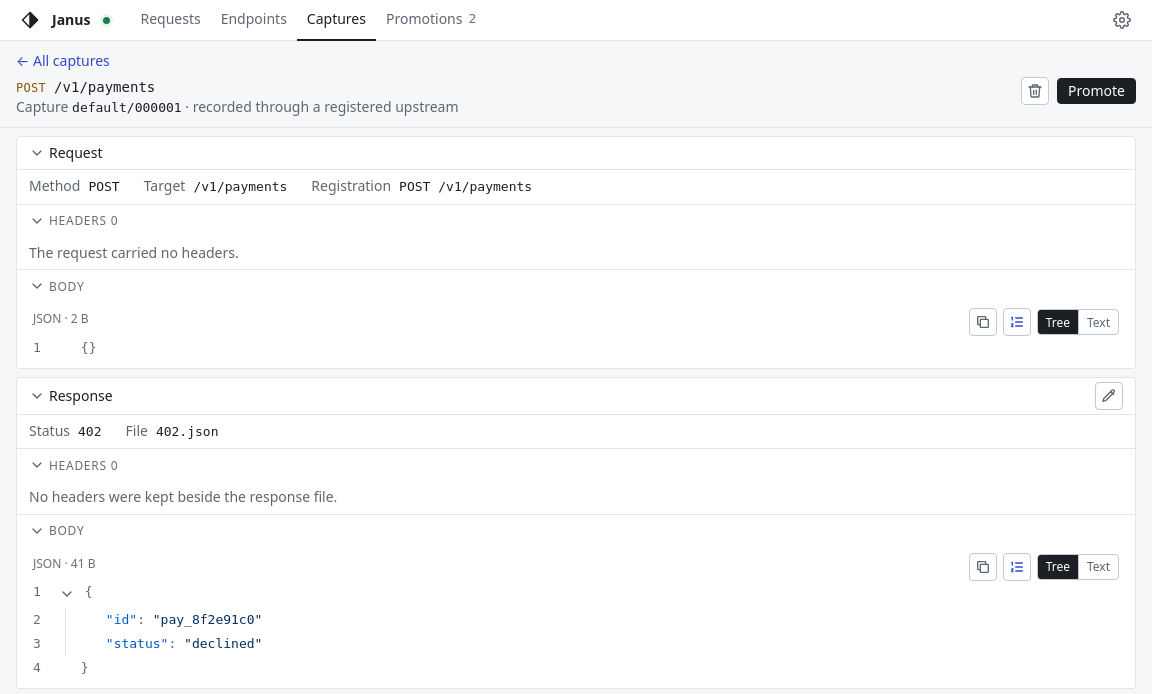
Test: confirms a protected header sidecar using its own preview and digest
Click the button "Promote" at {"x": 1096, "y": 91}, box [1057,78,1136,104]
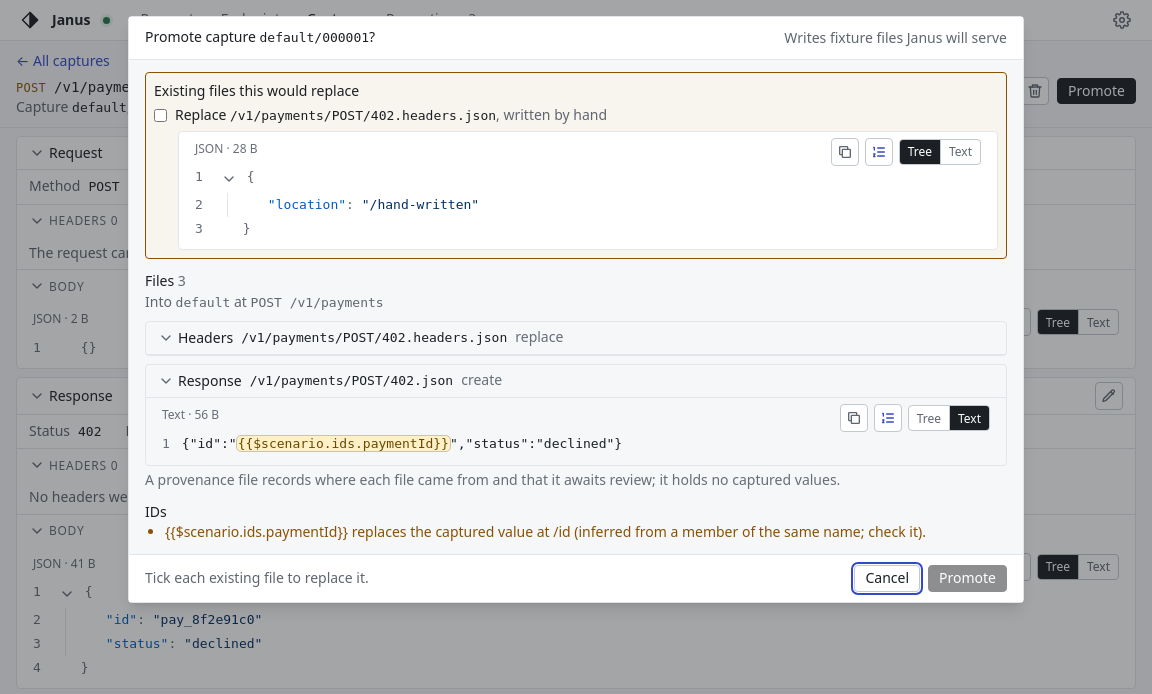
Click the checkbox labelled "Replace /v1/payments/POST/402.headers.json, written by hand" at {"x": 160, "y": 116}, box [154,109,167,122]
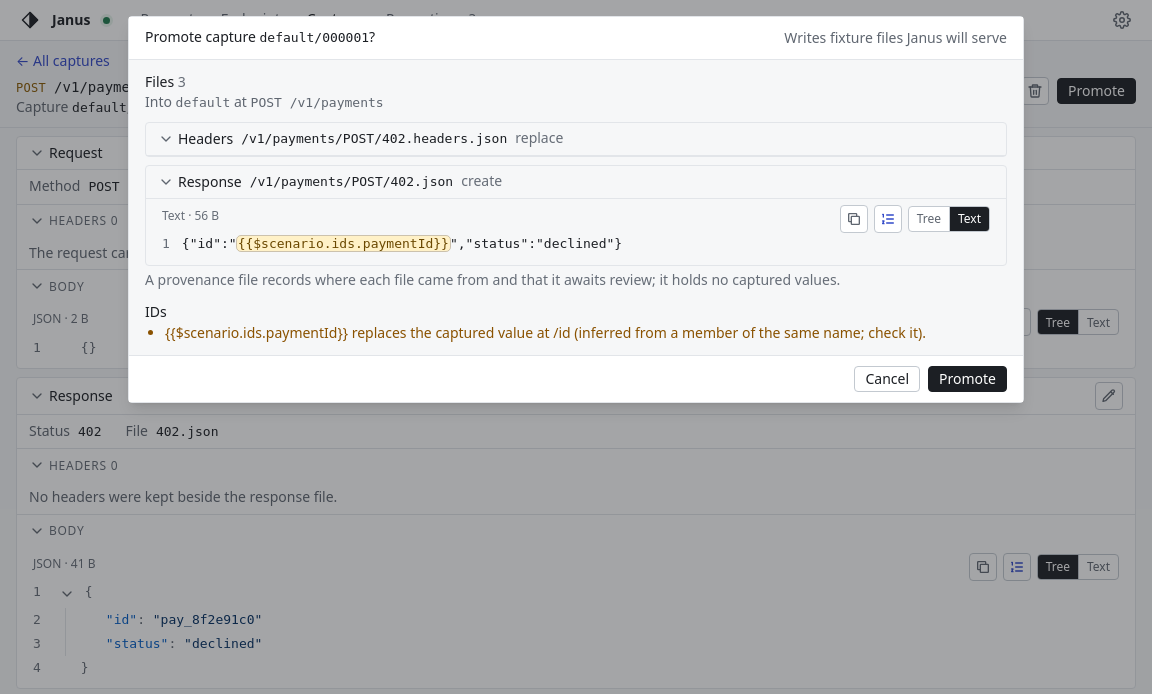
Check: the button "Promote" is enabled
Click the button "Promote" at {"x": 968, "y": 379}, box [928,366,1007,392]
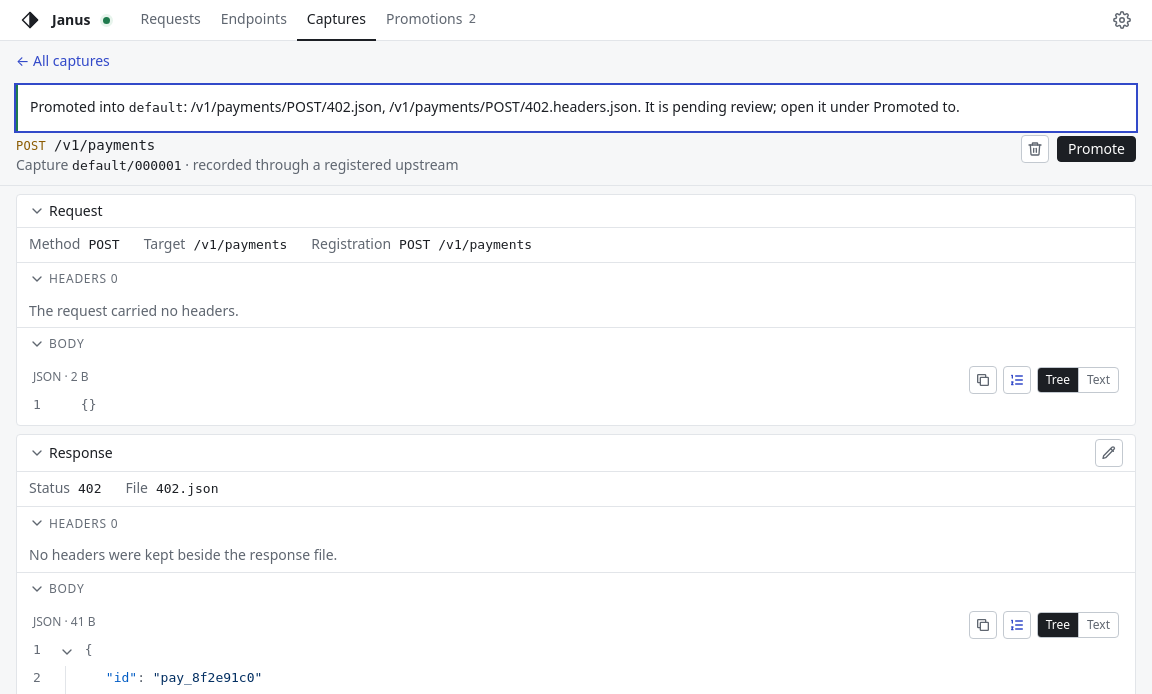
Check: the dialog is gone
